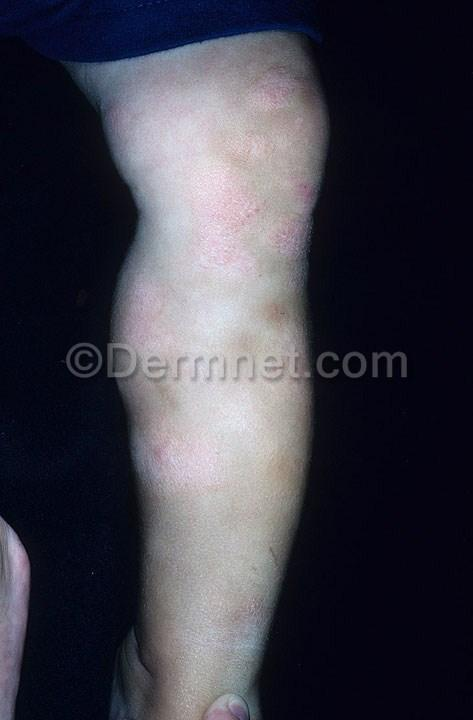xerosis 1: (224, 589, 278, 660)
xerosis 2: (185, 62, 322, 281), (134, 412, 225, 497)
